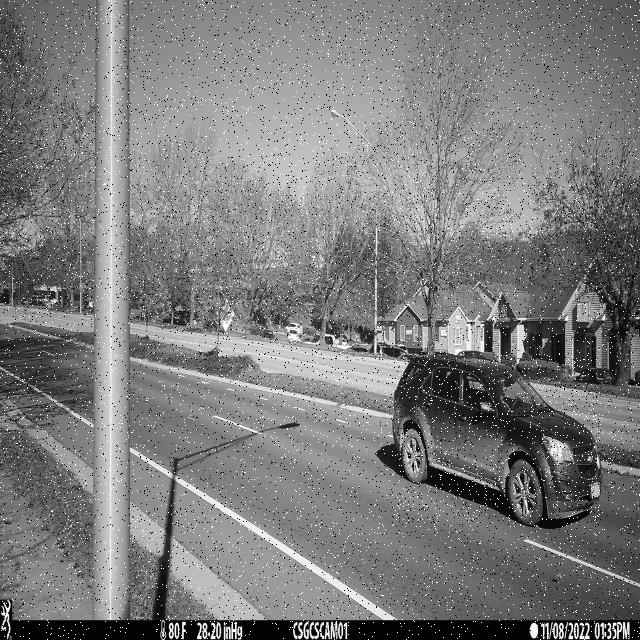SUV: (392, 353, 601, 527)
